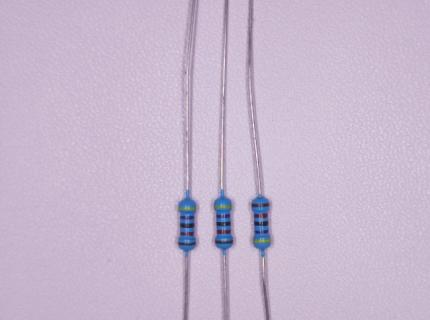Black band: (180, 223, 194, 227), (217, 222, 230, 226), (255, 221, 268, 225)
Brown band: (216, 240, 233, 244), (252, 203, 269, 207), (178, 242, 196, 245)
Red band: (218, 230, 231, 234), (255, 214, 267, 218), (181, 232, 194, 235)
Violet band: (217, 214, 230, 219), (256, 230, 269, 234), (180, 216, 194, 219)
Yellow band: (254, 239, 271, 243), (179, 207, 196, 210), (215, 205, 232, 208)
